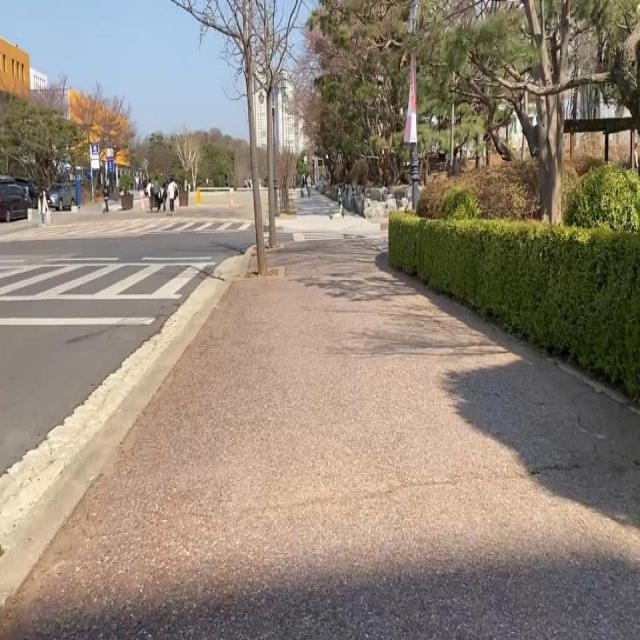sidewalk: (0, 237, 640, 638)
